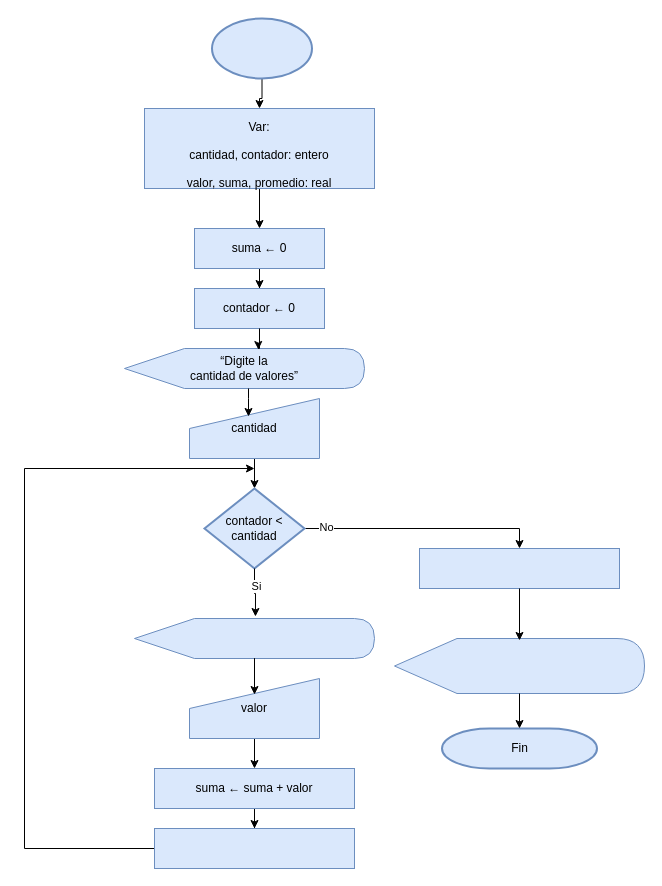
This 662x886 diagram has some shape labels left out. Each missing label, with the box of its shape:
contador ← contador + 1: (154, 828, 354, 868)
Inicio: (210, 17, 312, 79)
promedio ← suma / cantidad: (418, 548, 620, 588)
“Digite el valor”, contador: (134, 618, 374, 658)
“El promedio de los ”, cantidad, “valores es: ”, promedio: (394, 638, 644, 694)
